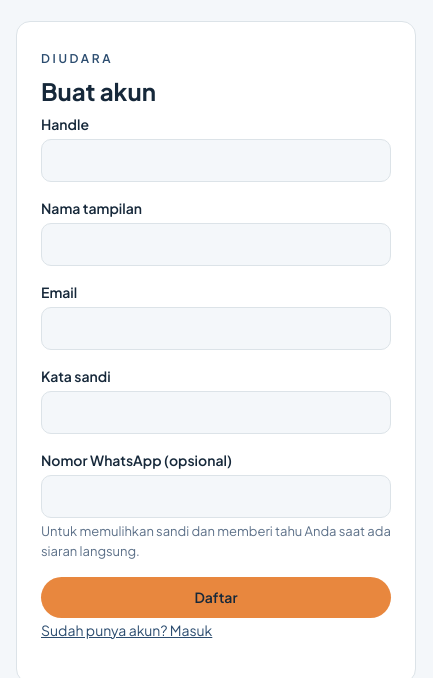
Test: SignupPage › renders a 400's field-level messages next to each field
Type "wildan" into the field labelled "Handle" at (216, 160), box [41, 139, 391, 182]
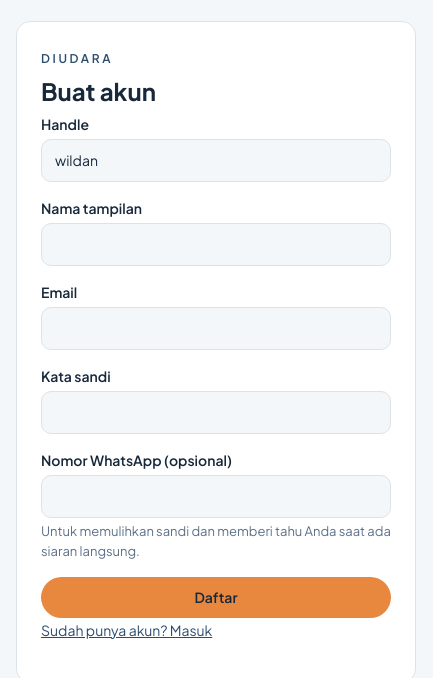
Type "Wildan" into the field labelled "Nama tampilan" at (216, 244), box [41, 223, 391, 266]
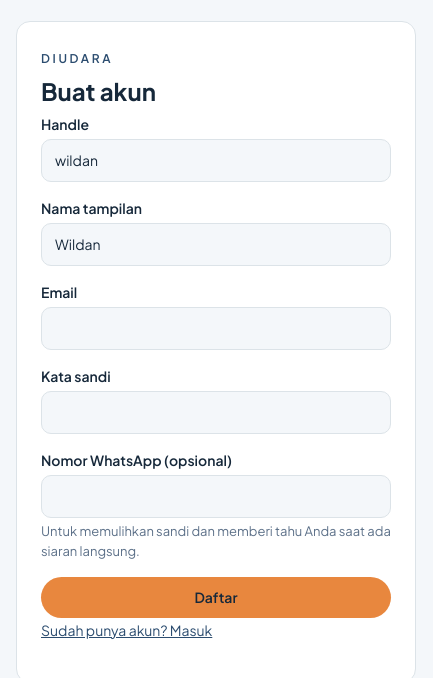
Type "wildan@example.com" into the field labelled "Email" at (216, 328), box [41, 307, 391, 350]
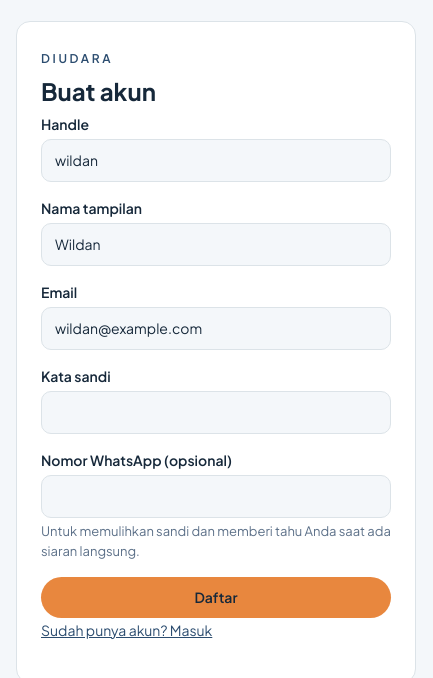
Type "supersecret123" into the password field labelled "Kata sandi" at (216, 412), box [41, 391, 391, 434]
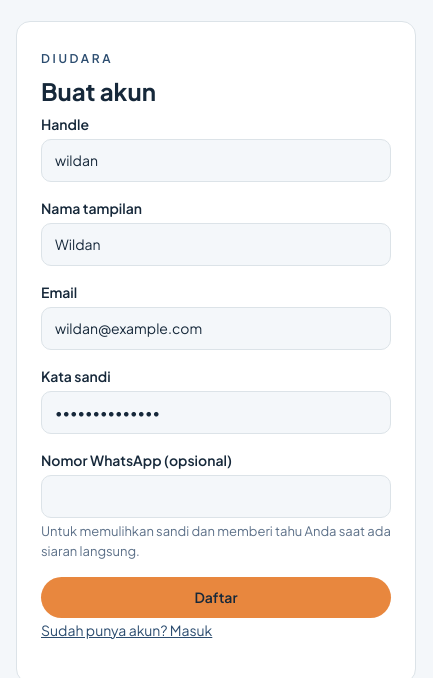
Click the button "Daftar" at (216, 598), box [41, 577, 391, 618]
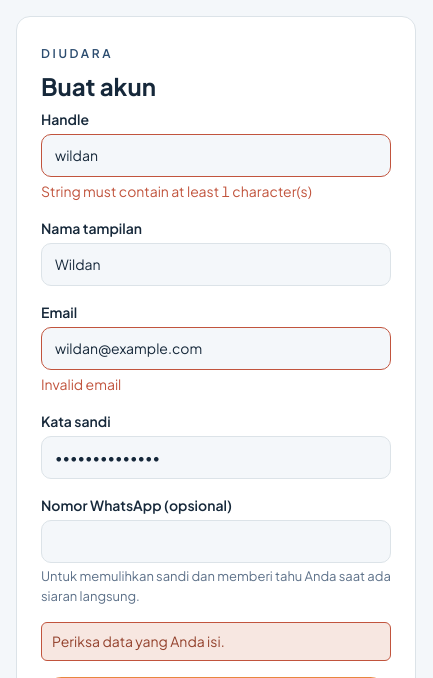
expect the text with test id "error-handle" shows "at least 1 character": met, box [41, 182, 312, 200]
expect the text with test id "error-email" reads "Invalid email": met, box [41, 375, 121, 393]
